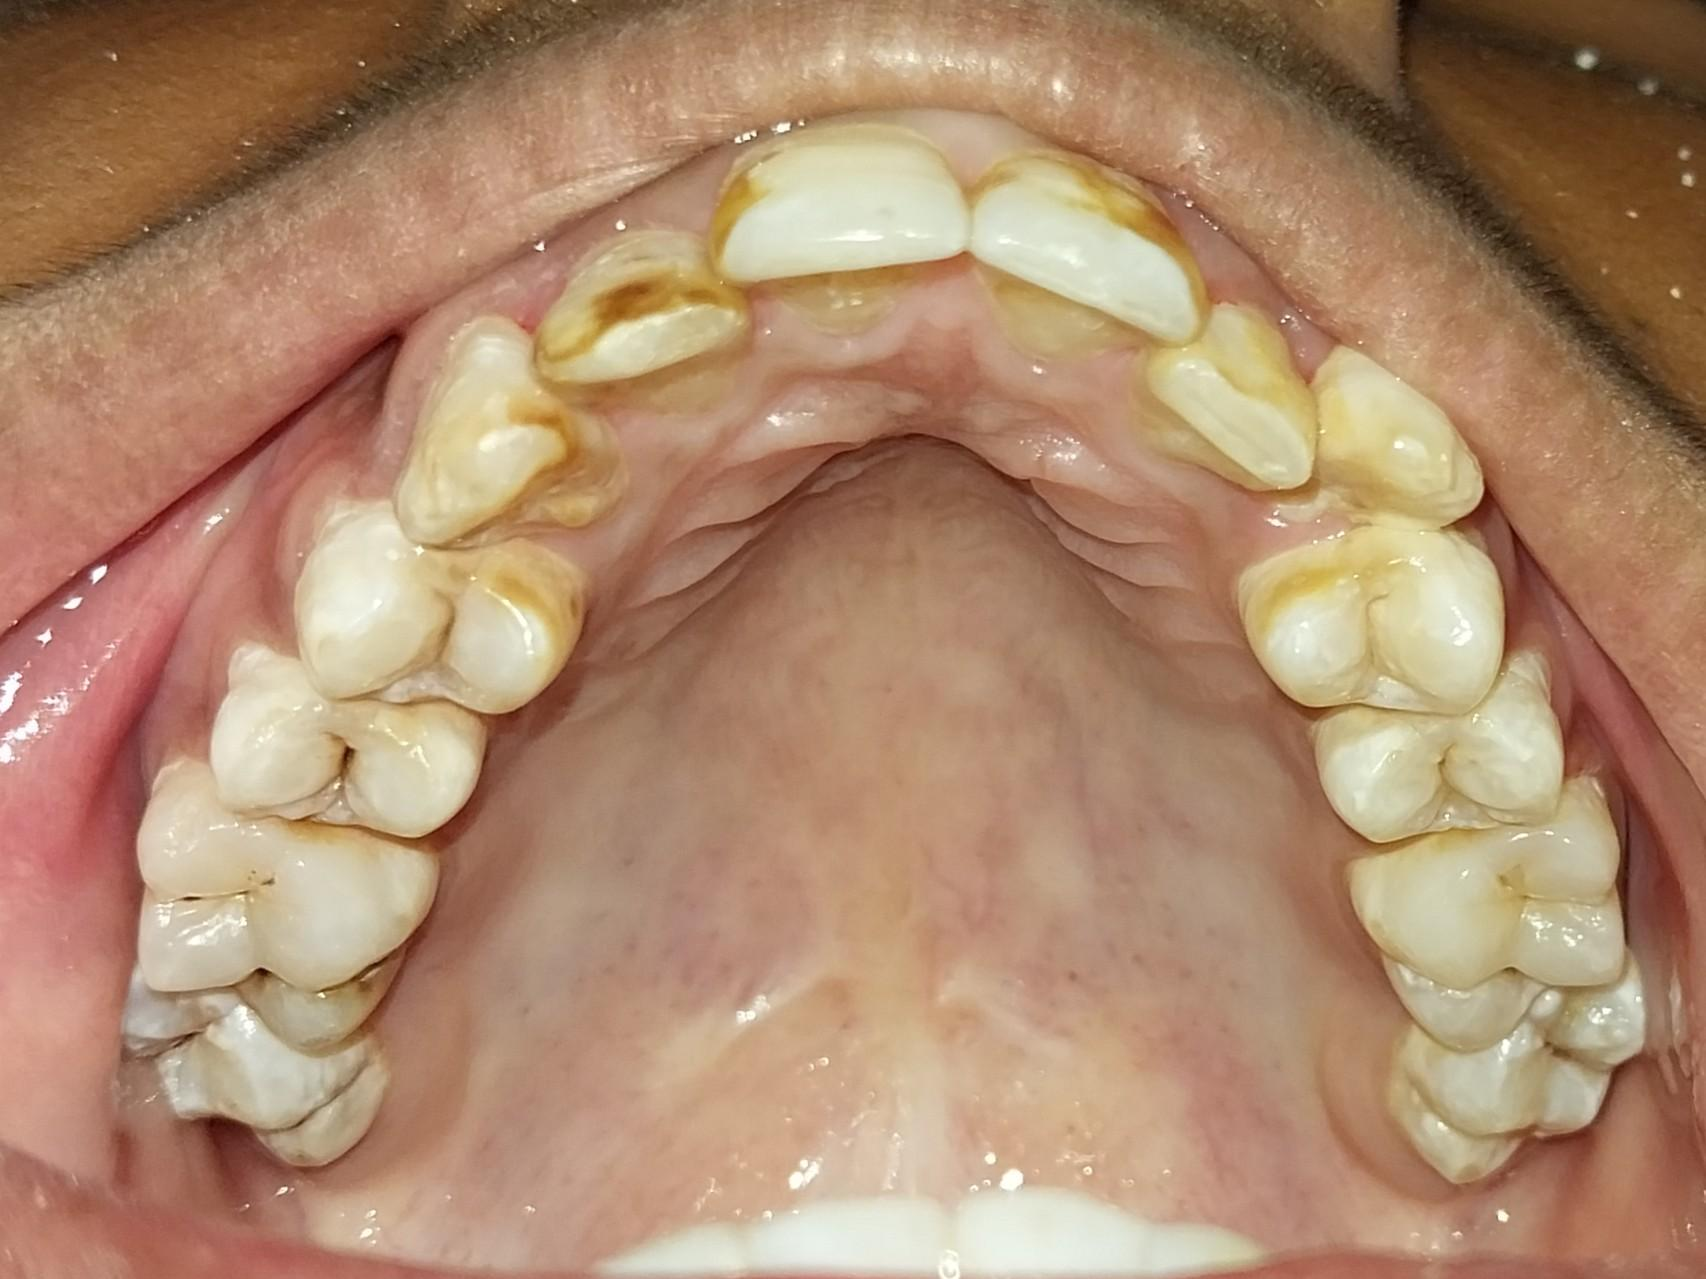D: (128, 784, 410, 1053), (206, 655, 483, 840), (118, 978, 366, 1169)
